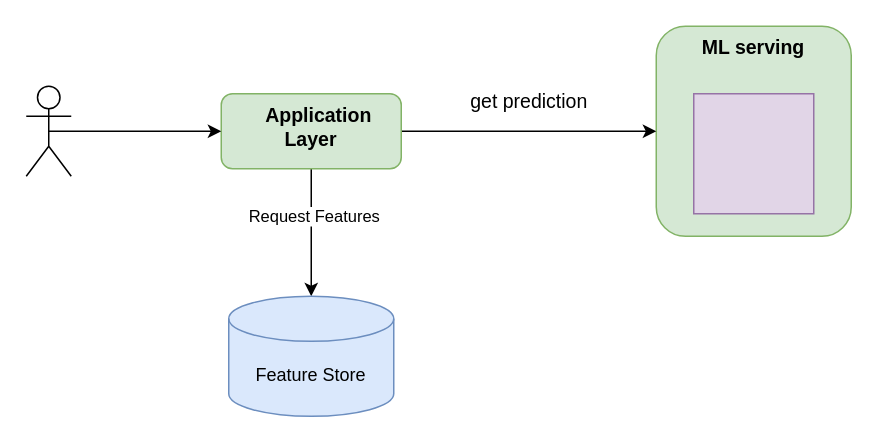
Some shapes in this 878 by 443 pixel diagram are drawn without their labels. Here are the shapes that lost their labels. From the top down, the centre of each, then its label:
At (x=48, y=130): "Actor".
At (x=753, y=153): "ML Model".
